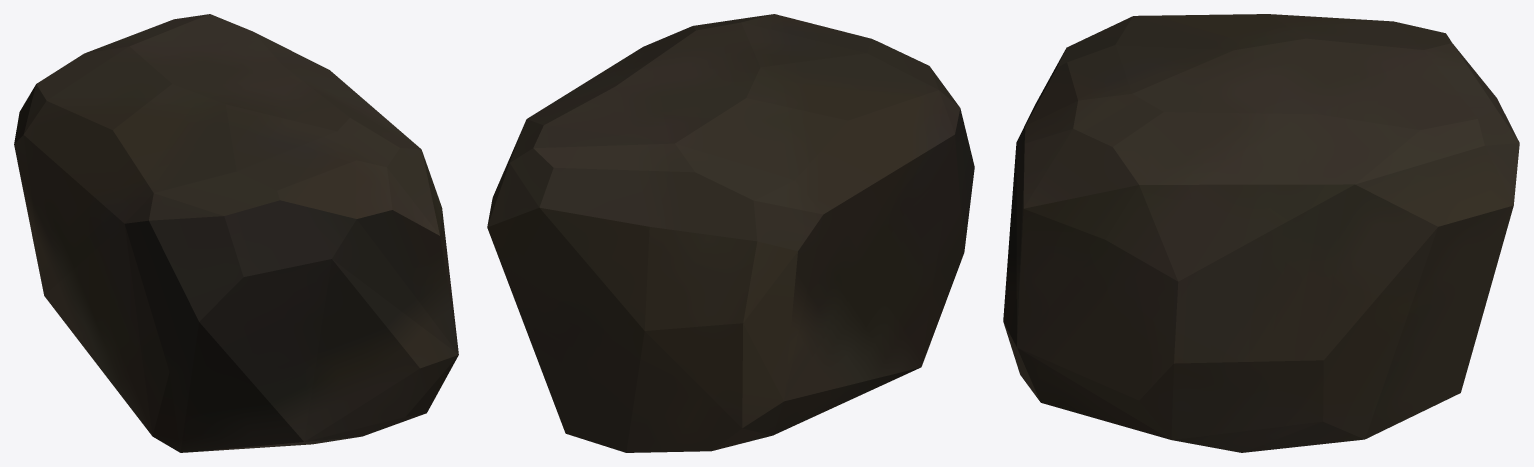
Rendered from Rock0.fbx.
3 views of the same model, side by side, from view 1: azimuth 30°, elevation 25°; view 2: azimuth 150°, elevation 25°; view 3: azimuth 270°, elevation 25° (orthographic). The views are drawn at different scales.
Parts seen in each view (by area): view 1: Eff_Model_Rock_02_01; view 2: Eff_Model_Rock_02_01; view 3: Eff_Model_Rock_02_01.
Part boxes in pixels (x1,y1,x2,y2): Eff_Model_Rock_02_01: (14,14,458,452); Eff_Model_Rock_02_01: (487,14,974,452); Eff_Model_Rock_02_01: (1003,14,1519,452).
Bounding box in the file's own units: 113 × 105 × 143.
